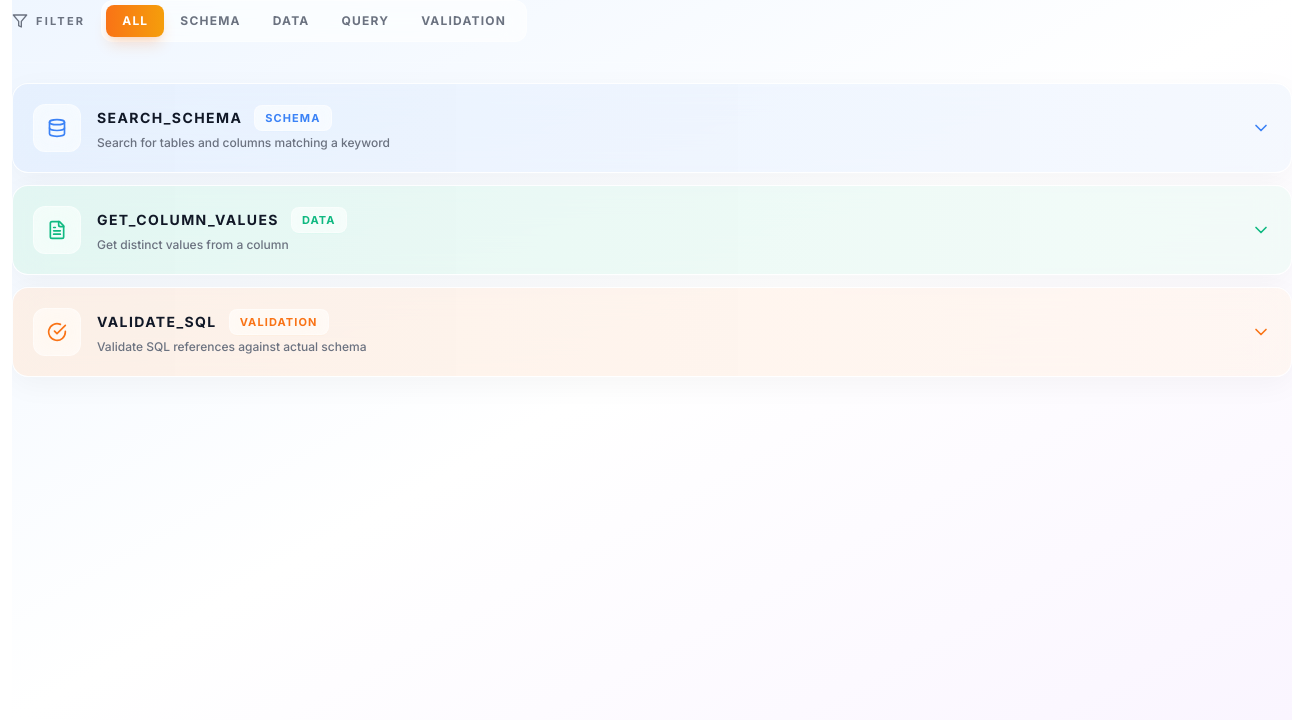
Scenario: ToolDirectory › expands tool details when clicked
Check: the heading "search_schema" is shown, box [97, 108, 242, 128]
# Click to expand
Click the button "search_schema" at [57, 128], box [13, 84, 1291, 172]
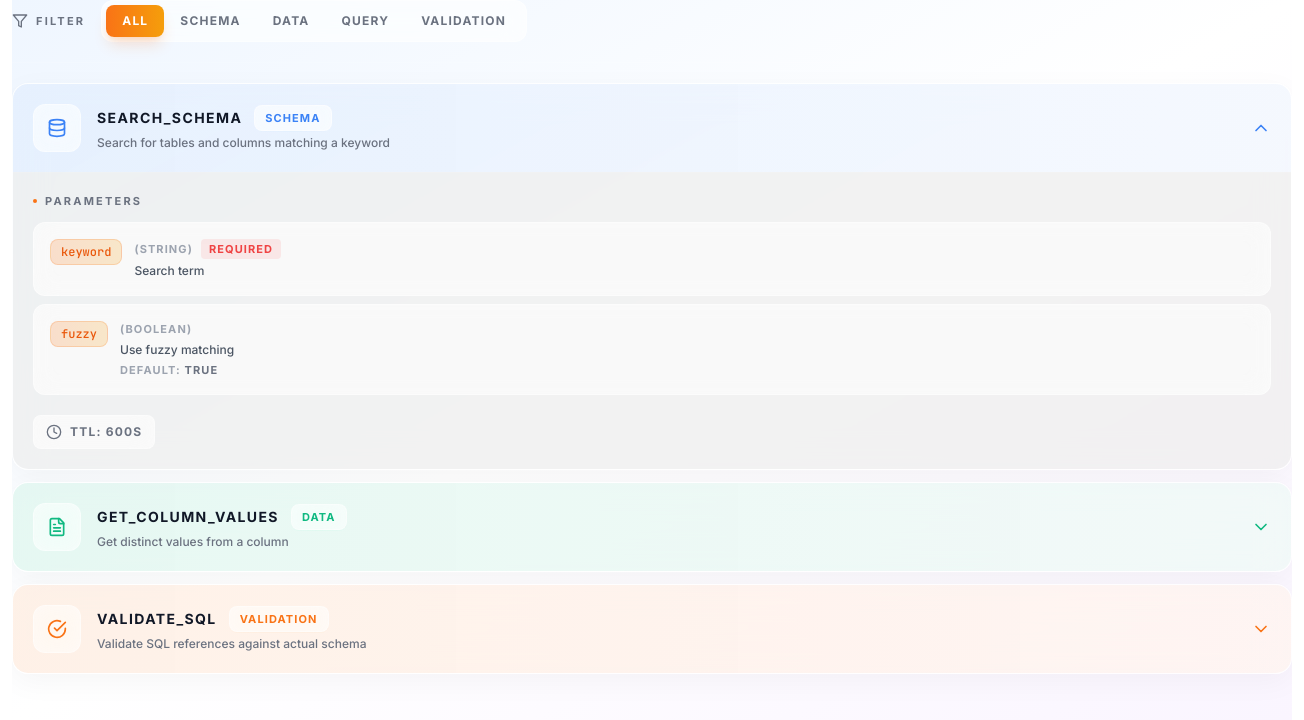
Check: the heading "Parameters" is shown, box [33, 194, 142, 208]
Check: the text "keyword" is shown, box [50, 238, 122, 264]
Check: the text "(string)" is shown, box [134, 240, 193, 257]
